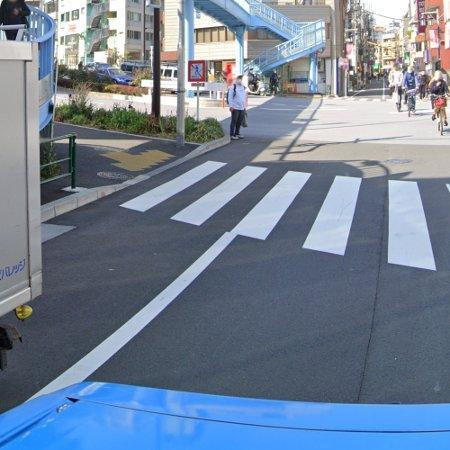crosswalk: (113, 155, 449, 270)
